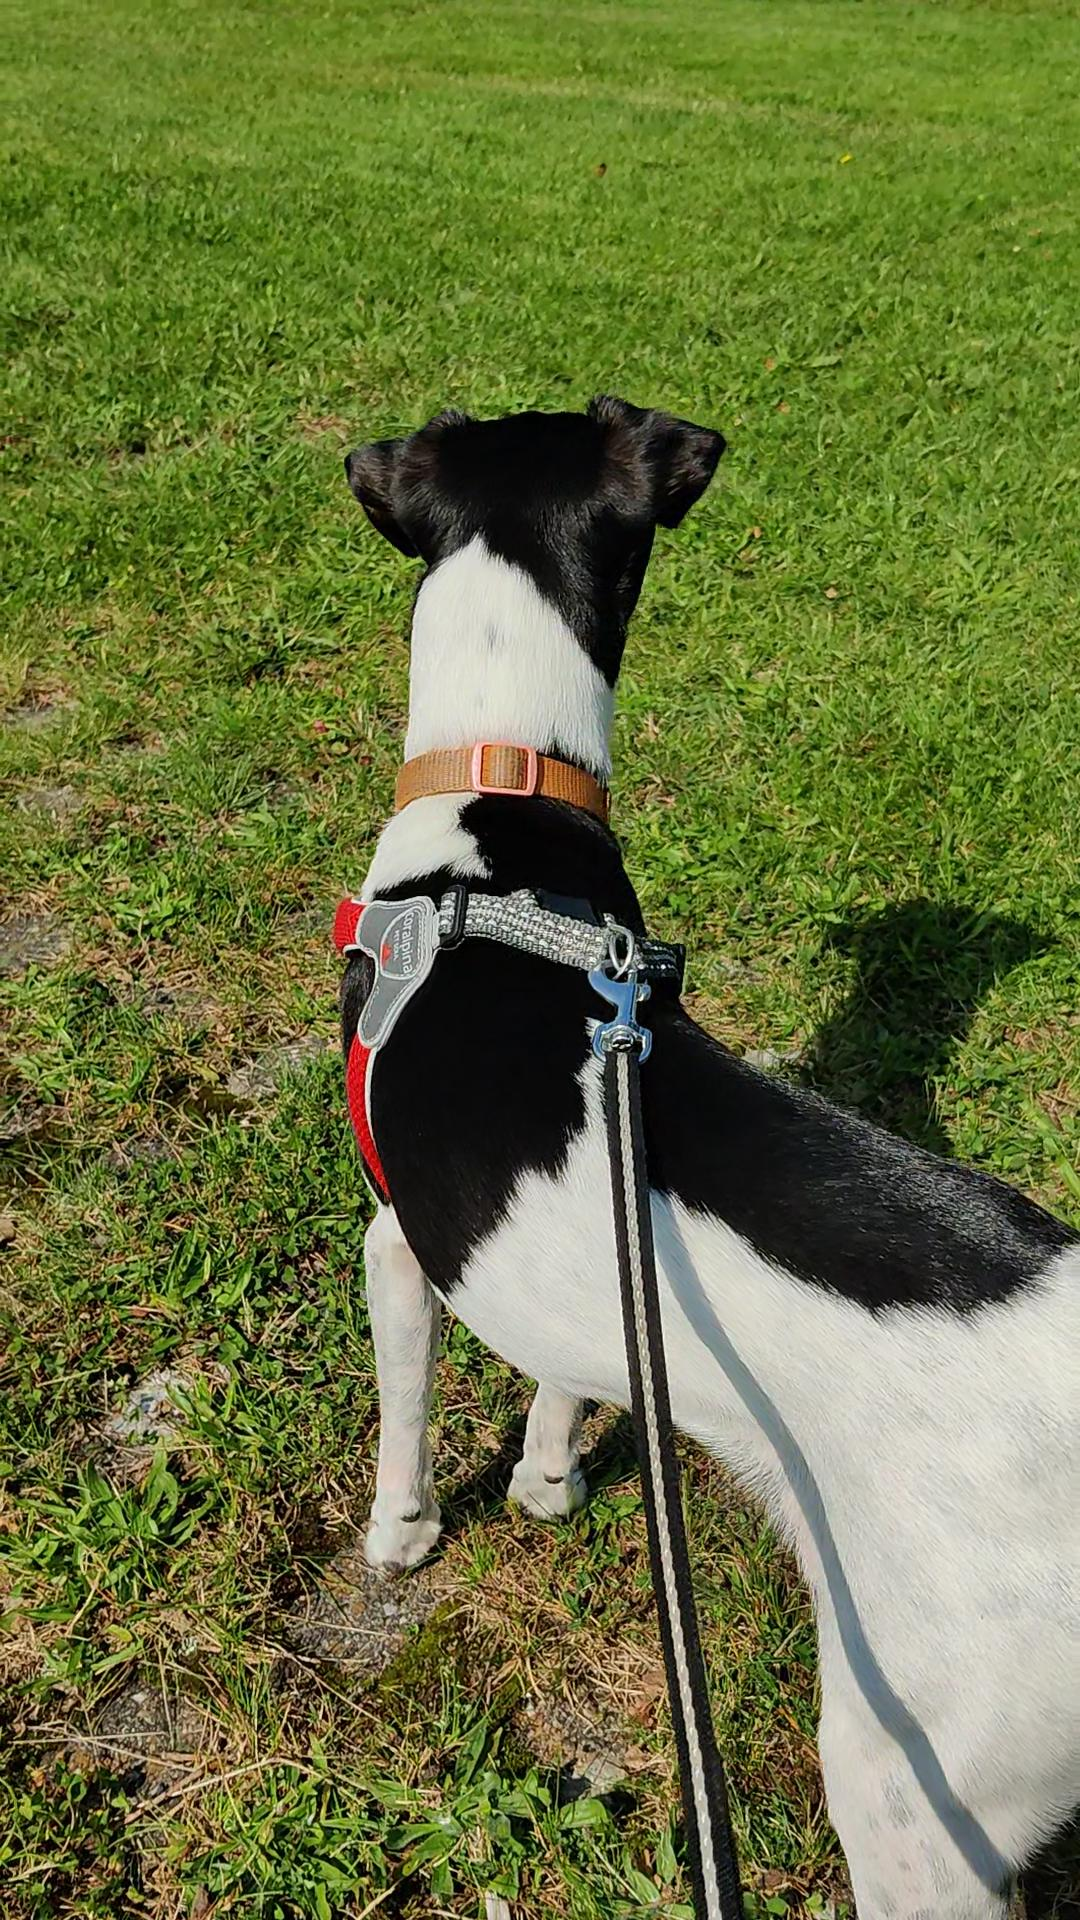Dog: (249, 334, 1079, 1919)
